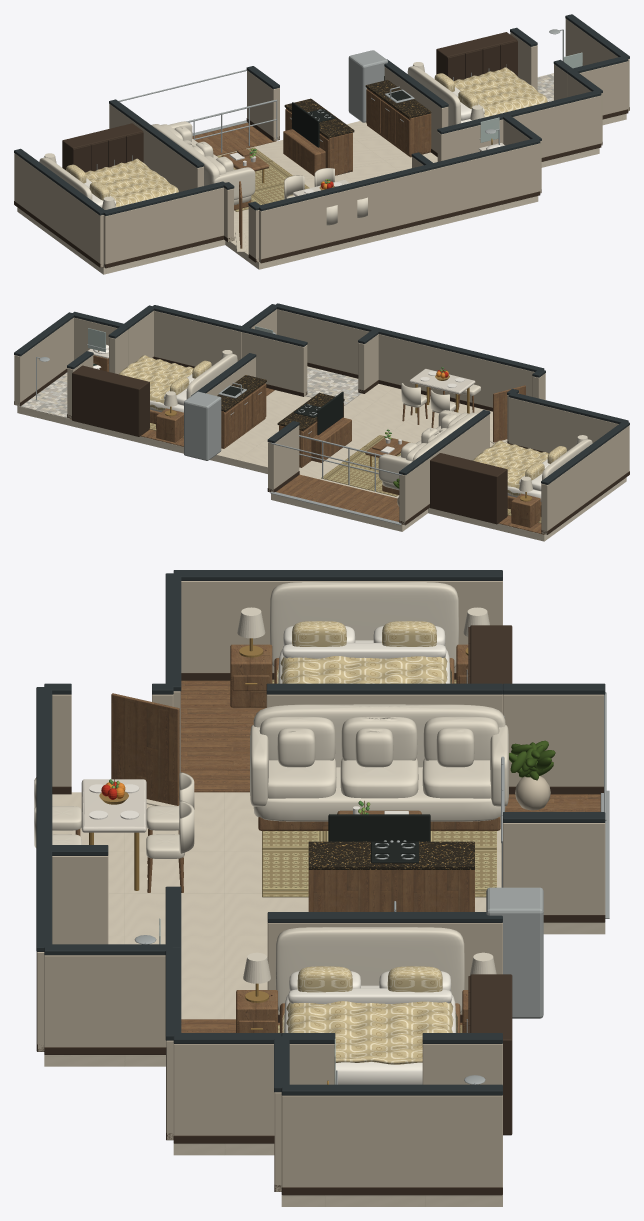
3 views of the same model, one above another, from view 1: azimuth 30°, elevation 25°; view 2: azimuth 150°, elevation 25°; view 3: azimuth 270°, elevation 25° (orthographic). The views are drawn at different scales.
Parts seen in each view (by area): view 1: Ivory masonry.006, Apartment foundation, Ivory masonry.003, Ivory masonry.002, Ivory masonry.008, Soft jacquard duvet with folds.003, Soft jacquard duvet with folds.004, Ivory masonry.018, Charcoal wall cut.006, Brushed refrigerator, Ivory masonry.010, Ivory masonry (+47 smaller); view 2: Apartment foundation, Ivory masonry.006, Dark fitted wardrobe, Dark fitted wardrobe.001, Ivory masonry.002, Ivory masonry.003, Ivory masonry.008, Ivory masonry.011, Ivory masonry.016, Brushed refrigerator, Charcoal wall cut.006, Soft jacquard duvet with folds.004 (+45 smaller); view 3: Apartment foundation, Ivory masonry.011, Ivory masonry.007, Ivory masonry.009, Padded headboard.003, Padded headboard.004, Ivory masonry.002, Ivory masonry, Soft jacquard duvet with folds.003, Ivory masonry.001, Kitchen cabinetry.001, Open walnut door leaf (+58 smaller).
Boxes of the visible parts, bbox=[...] form: Ivory masonry.006: bbox=[259, 143, 540, 262]; Apartment foundation: bbox=[17, 113, 626, 274]; Ivory masonry.003: bbox=[103, 187, 223, 267]; Ivory masonry.002: bbox=[14, 153, 103, 267]; Ivory masonry.008: bbox=[513, 95, 601, 157]; Soft jacquard duvet with folds.003: bbox=[453, 67, 547, 117]; Soft jacquard duvet with folds.004: bbox=[85, 158, 178, 207]; Ivory masonry.018: bbox=[136, 123, 203, 191]; Charcoal wall cut.006: bbox=[259, 138, 540, 211]; Brushed refrigerator: bbox=[348, 50, 387, 122]; Ivory masonry.010: bbox=[579, 61, 628, 115]; Ivory masonry: bbox=[247, 70, 279, 140]; Apartment foundation: bbox=[17, 384, 626, 541]; Ivory masonry.006: bbox=[277, 309, 534, 407]; Dark fitted wardrobe: bbox=[72, 365, 149, 436]; Dark fitted wardrobe.001: bbox=[430, 453, 507, 524]; Ivory masonry.002: bbox=[541, 425, 629, 534]; Ivory masonry.003: bbox=[508, 397, 618, 452]; Ivory masonry.008: bbox=[154, 310, 241, 366]; Ivory masonry.011: bbox=[14, 318, 73, 405]; Ivory masonry.016: bbox=[241, 332, 307, 396]; Brushed refrigerator: bbox=[184, 391, 221, 460]; Charcoal wall cut.006: bbox=[274, 303, 544, 371]; Soft jacquard duvet with folds.004: bbox=[472, 440, 548, 496]; Apartment foundation: bbox=[44, 792, 605, 1206]; Ivory masonry.011: bbox=[281, 1095, 502, 1187]; Ivory masonry.007: bbox=[44, 955, 166, 1047]; Ivory masonry.009: bbox=[173, 1044, 274, 1135]; Padded headboard.003: bbox=[275, 927, 464, 1012]; Padded headboard.004: bbox=[270, 582, 458, 667]; Ivory masonry.002: bbox=[181, 581, 502, 672]; Ivory masonry: bbox=[503, 823, 605, 914]; Soft jacquard duvet with folds.003: bbox=[282, 1001, 457, 1064]; Ivory masonry.001: bbox=[503, 694, 603, 786]; Kitchen cabinetry.001: bbox=[308, 870, 474, 911]; Open walnut door leaf: bbox=[111, 693, 179, 805].
Bounding box in the file's own units: 12.32 × 1.37 × 5.75.
Materials: 24 (6 with a texture image).
